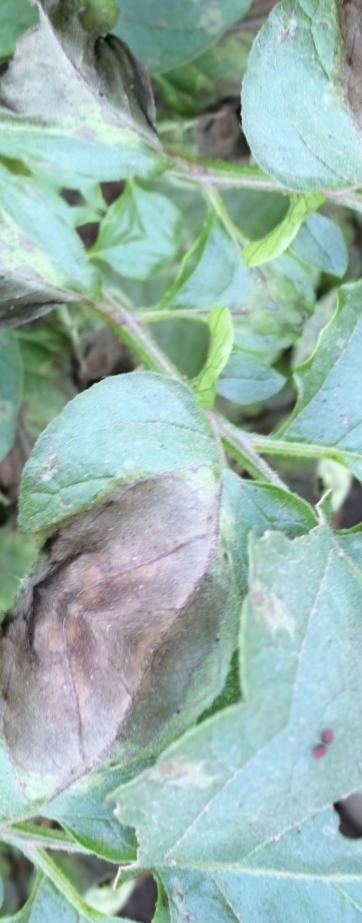Tomato leaf late blight: (0, 307, 305, 664), (0, 123, 141, 426)
